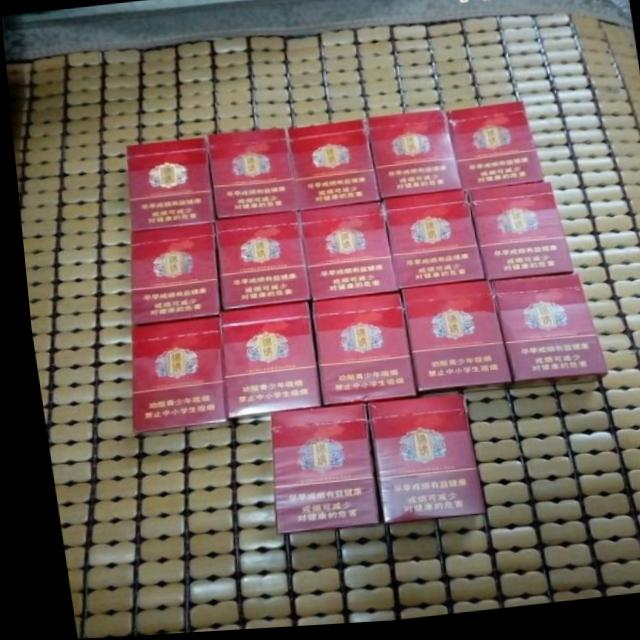box: (359, 398, 476, 527), (260, 407, 368, 537), (485, 279, 599, 393), (396, 285, 505, 397), (213, 304, 314, 422), (307, 296, 409, 410), (124, 319, 219, 435), (294, 204, 393, 306), (464, 188, 568, 285), (380, 194, 480, 294), (212, 215, 304, 312), (126, 225, 213, 325), (443, 108, 541, 196), (285, 122, 378, 214), (365, 116, 459, 204), (203, 131, 293, 222), (123, 140, 213, 231)
